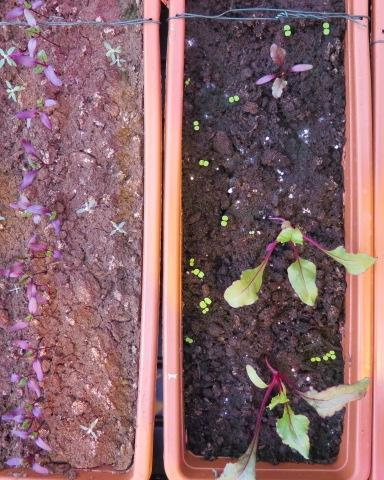weed: (76, 414, 99, 442), (106, 215, 127, 236), (225, 92, 240, 104), (218, 211, 228, 227), (196, 156, 210, 167), (281, 21, 290, 38), (321, 19, 330, 36), (182, 333, 194, 345), (191, 118, 199, 131), (308, 354, 321, 362), (187, 255, 194, 267)
